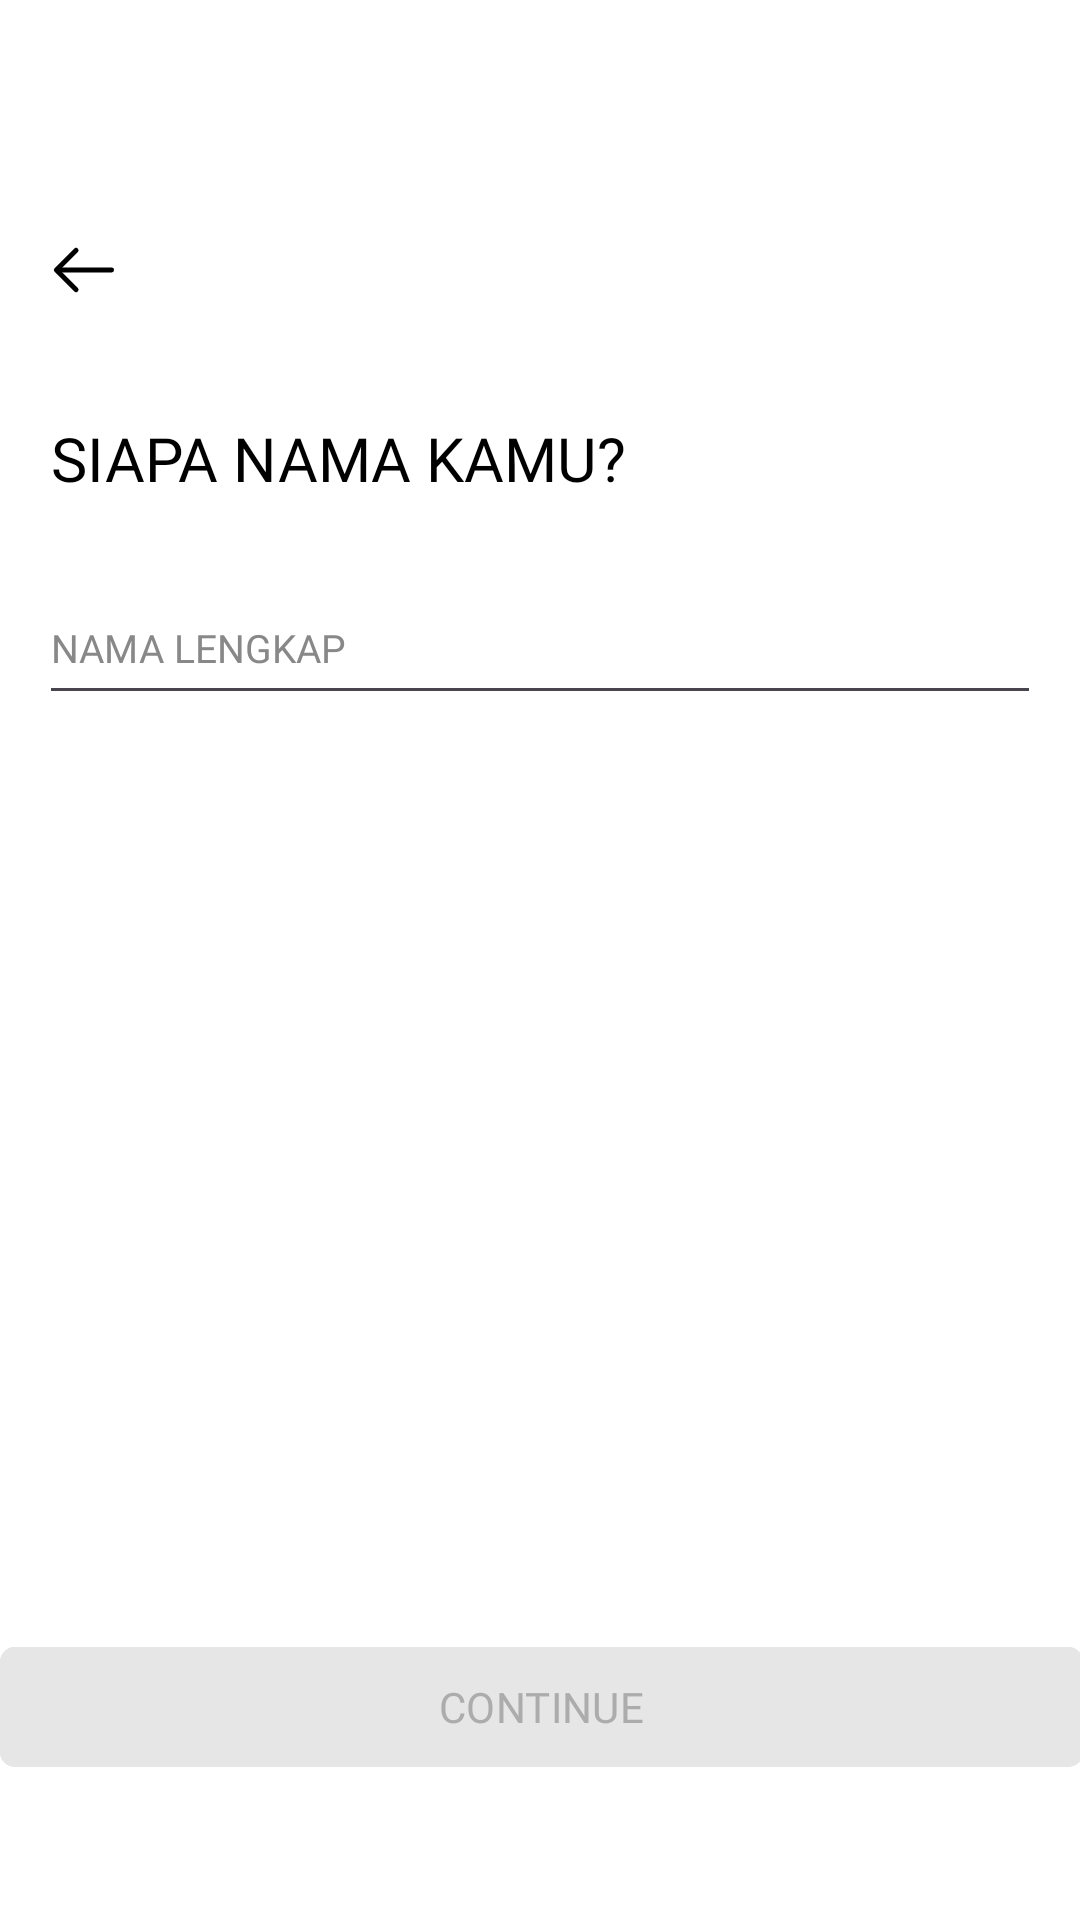

Screen size 1080px×1920px. Icon name, then its center in pixels as point (x, y):
Back: point (84, 270)
